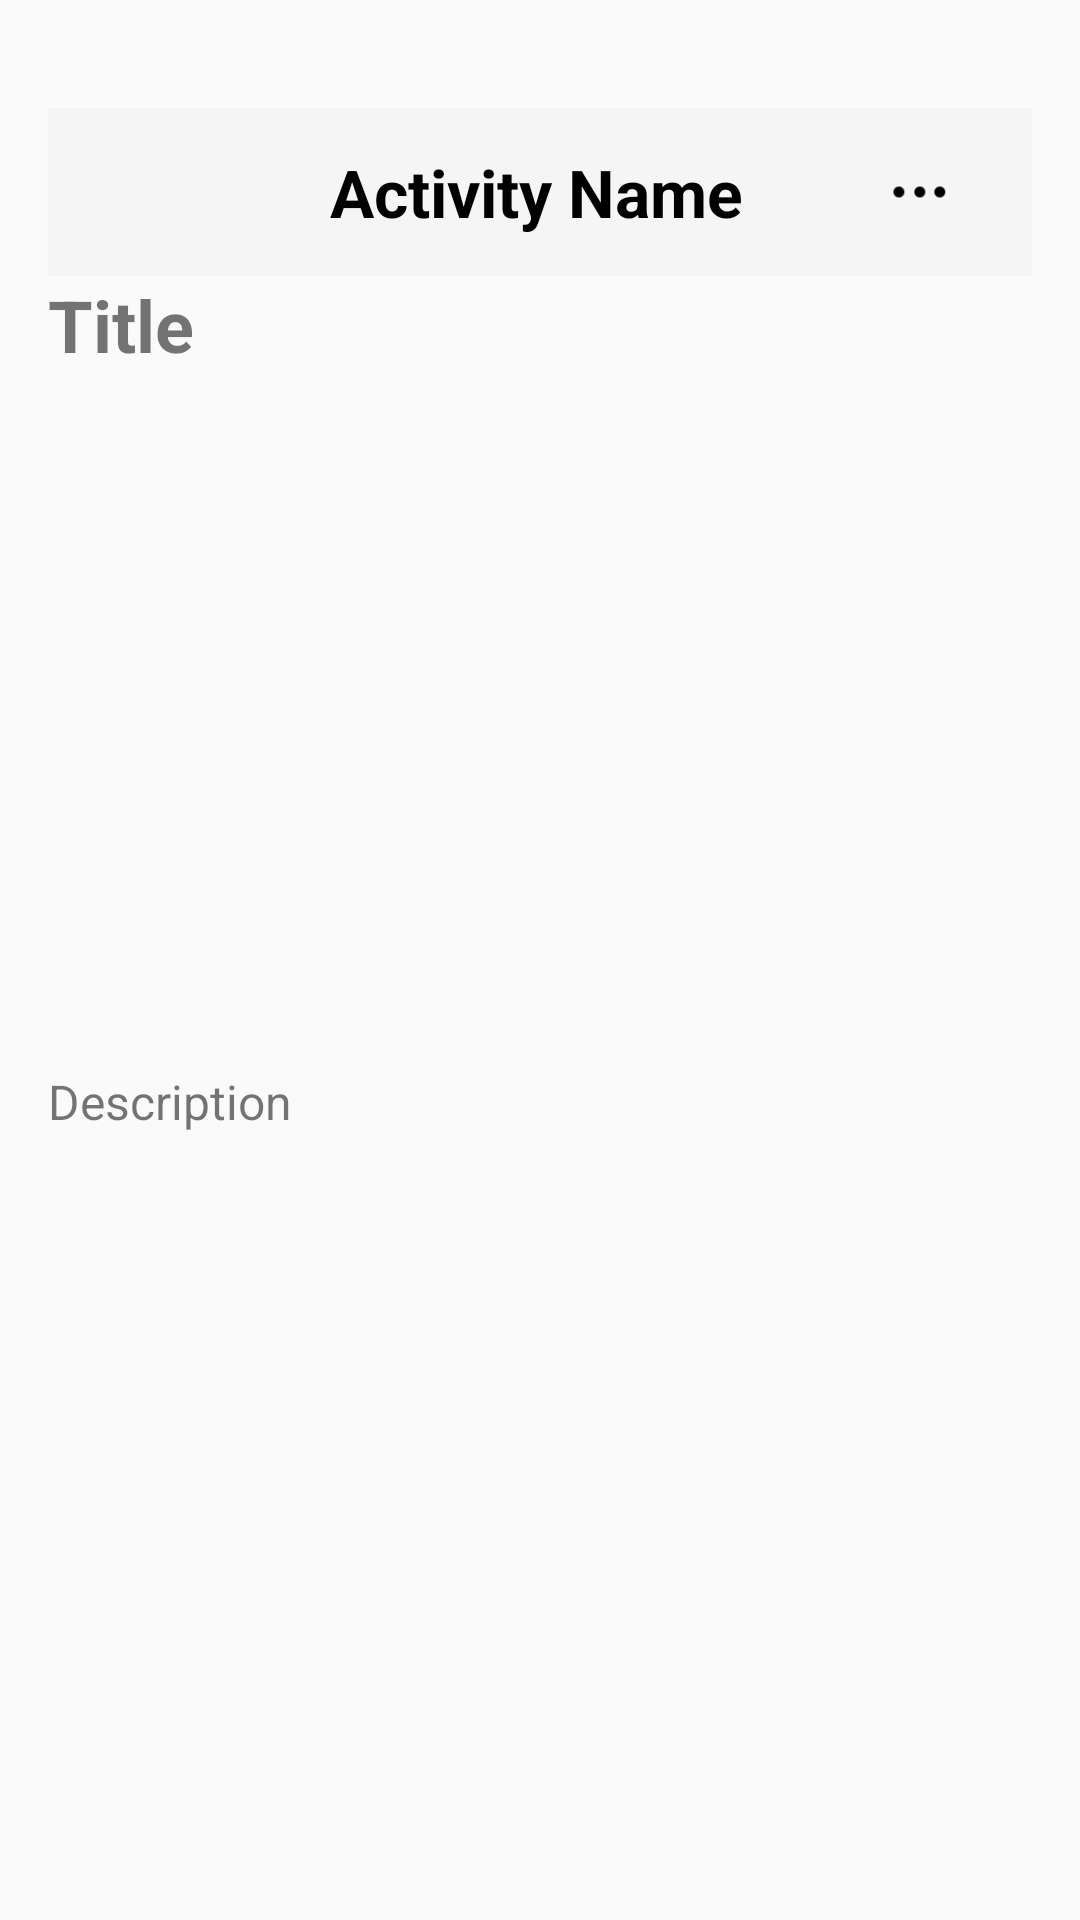

Screen size 1080 × 1920. Icon name, then its box in pixels as (x1, y1, x2, y2):
navbar more: (893, 186, 946, 198)
